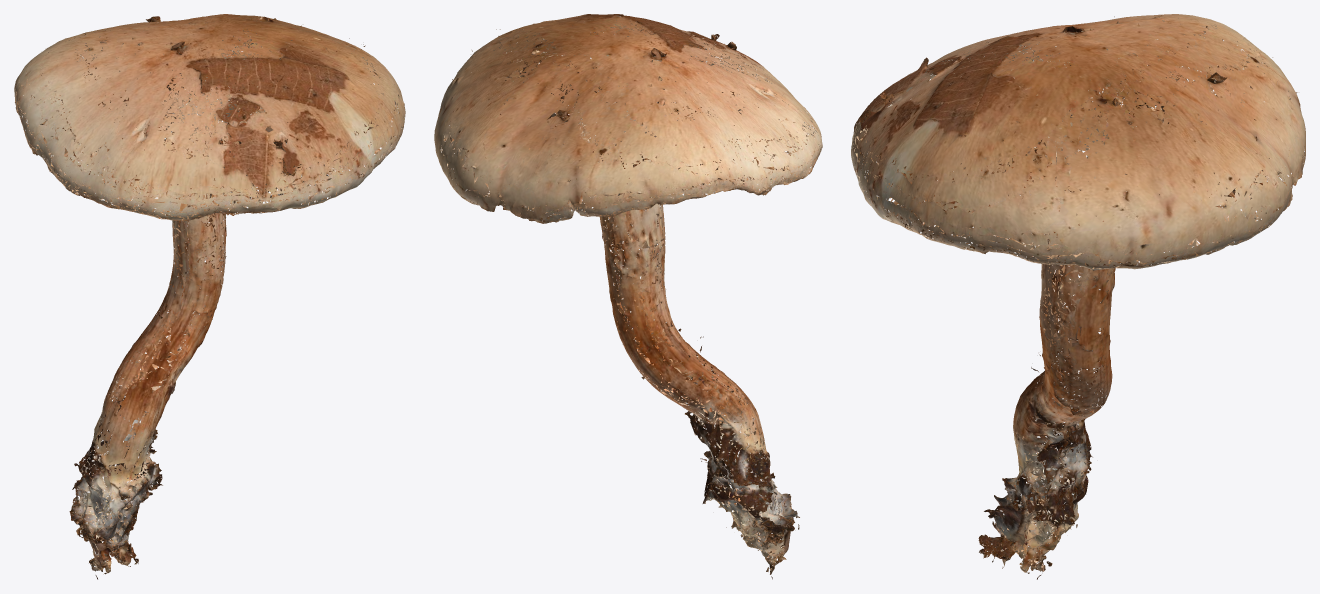
File: mushroom-touch.glb
The picture shows the model from 3 angles, left to right: view 1: azimuth 30°, elevation 25°; view 2: azimuth 150°, elevation 25°; view 3: azimuth 270°, elevation 25°; orthographic projection. The views are drawn at different scales.
Parts seen in each view (by area): view 1: Object_6, Object_13; view 2: Object_6, Object_13; view 3: Object_6, Object_13.
Boxes of the visible parts, box(x1,y1,x2,y2) form: Object_6: box(14, 14, 405, 579); Object_13: box(14, 15, 405, 578); Object_6: box(434, 14, 822, 579); Object_13: box(435, 14, 822, 578); Object_6: box(851, 14, 1305, 579); Object_13: box(851, 15, 1305, 578).
Bounding box in the file's own units: 0.6887 × 1 × 0.671.
Materials: 2 (2 with a texture image).
